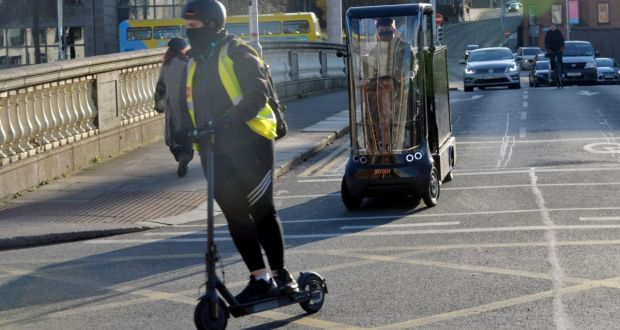scooter: (170, 123, 330, 330)
with helmet: (176, 1, 227, 57)
